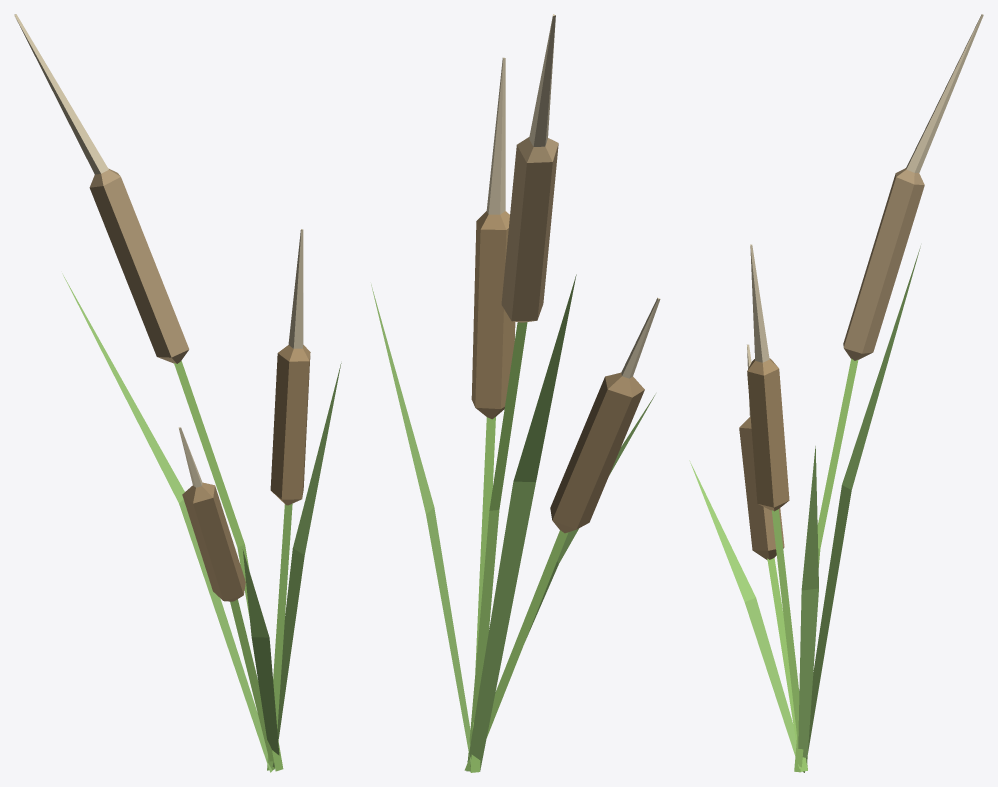
Rendered from Reed_a_03.fbx.
3 views of the same model, side by side, from view 1: azimuth 30°, elevation 25°; view 2: azimuth 150°, elevation 25°; view 3: azimuth 270°, elevation 25° (orthographic). The views are drawn at different scales.
Visible parts, largest first — view 1: Reed_a_03; view 2: Reed_a_03; view 3: Reed_a_03.
Boxes of the visible parts, bbox=[...] form: Reed_a_03: bbox=[14, 14, 341, 772]; Reed_a_03: bbox=[371, 14, 660, 772]; Reed_a_03: bbox=[689, 14, 983, 772].
Bounding box in the file's own units: 45.97 × 133 × 52.11.
